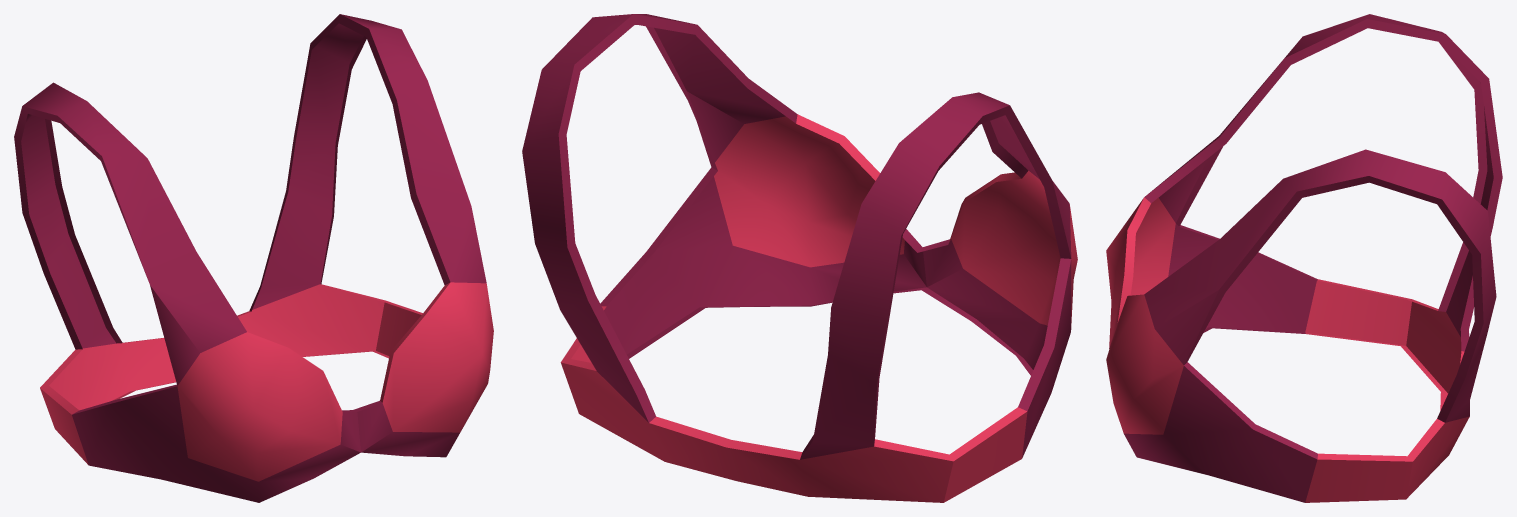
The model's file is Bra02.fbx.
3 renders of one model, left to right at view 1: azimuth 30°, elevation 25°; view 2: azimuth 150°, elevation 25°; view 3: azimuth 270°, elevation 25°, orthographic. The views are drawn at different scales.
Visible parts, largest first — view 1: Bra02; view 2: Bra02; view 3: Bra02.
Boxes of the visible parts, x1,y1,x2,y2 form: Bra02: [14, 14, 493, 502]; Bra02: [522, 14, 1077, 502]; Bra02: [1106, 14, 1502, 502].
Bounding box in the file's own units: 29.25 × 25.73 × 27.11.
